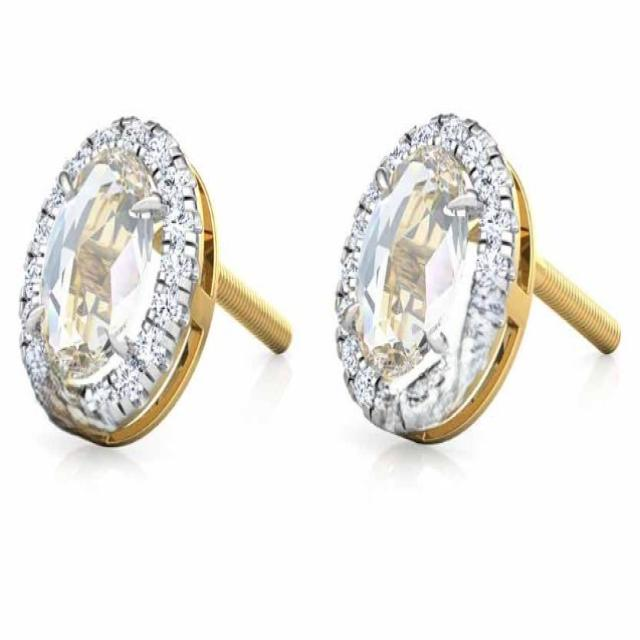missing gem: (396, 284, 501, 430), (38, 374, 63, 415), (64, 385, 88, 426)
